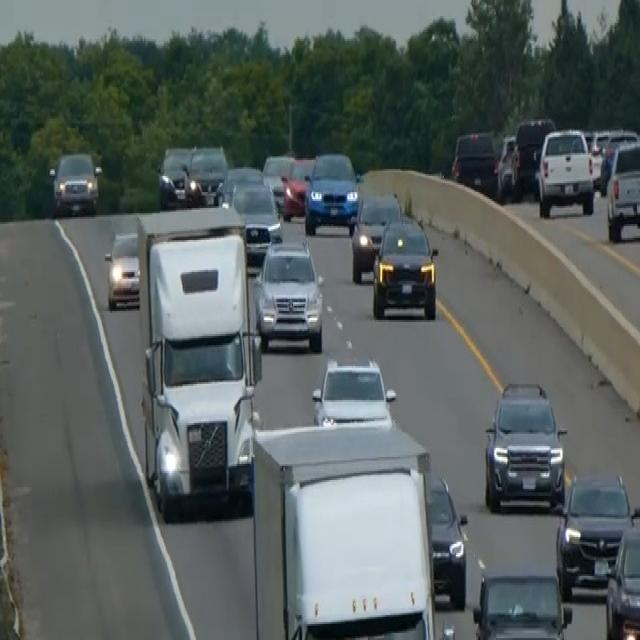car: (483, 377, 567, 512), (555, 469, 638, 599), (253, 236, 324, 352), (472, 567, 572, 638), (371, 215, 438, 320), (311, 354, 396, 426), (427, 473, 468, 610), (535, 126, 595, 219), (350, 190, 402, 283), (303, 149, 359, 235), (228, 178, 282, 263), (604, 516, 639, 638), (510, 116, 555, 198), (605, 137, 639, 242), (49, 148, 101, 215), (450, 128, 498, 196), (103, 228, 141, 311), (187, 143, 228, 205), (156, 144, 193, 206), (281, 154, 315, 220), (216, 162, 264, 206), (261, 151, 295, 208), (495, 132, 519, 199)
lorry: (105, 203, 264, 519), (251, 418, 439, 638)
